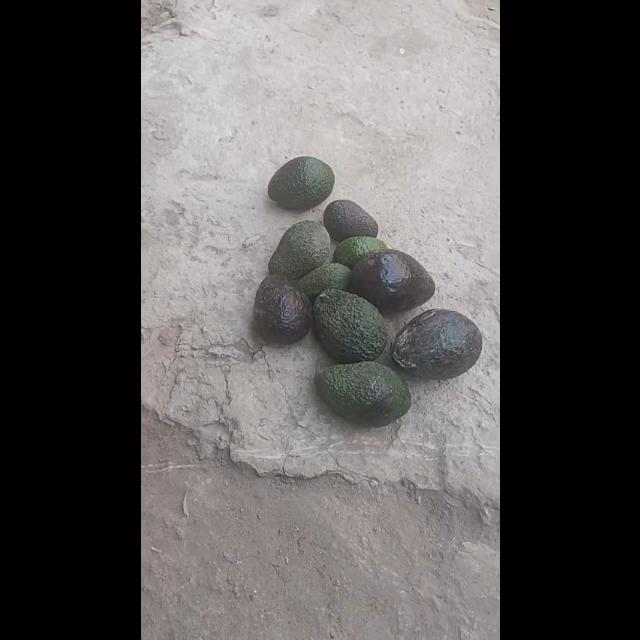Primera: (390, 307, 480, 378), (314, 360, 410, 424), (312, 288, 388, 362), (348, 248, 432, 312), (251, 273, 311, 343)
Segunda: (268, 220, 330, 280), (266, 156, 334, 210)
Tercera: (294, 260, 352, 304), (322, 198, 378, 242), (332, 236, 386, 270)
